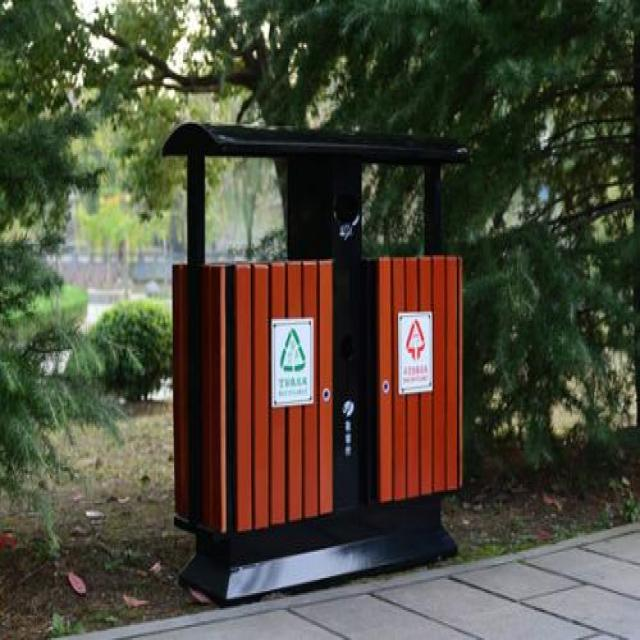garbage_bin: (162, 120, 468, 608)
